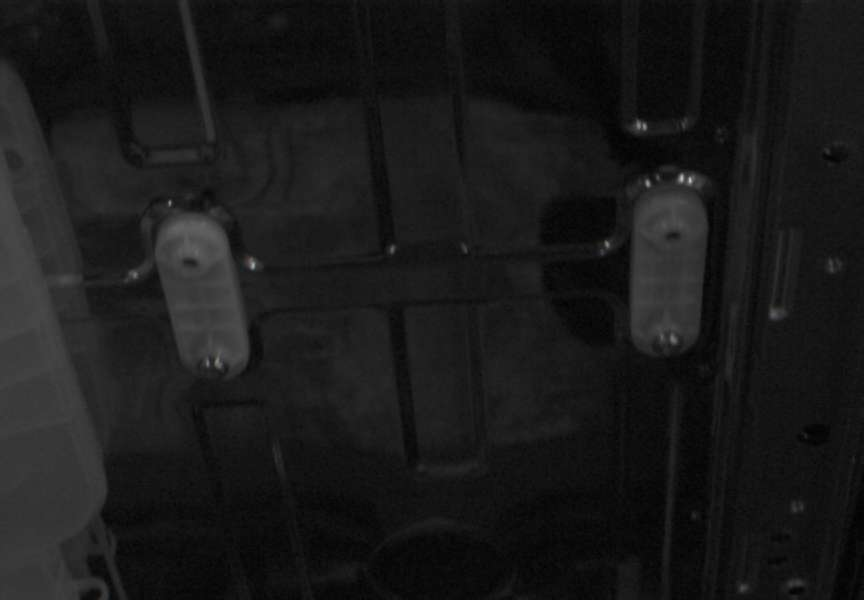missing_screw: (654, 221, 690, 255), (173, 252, 211, 280)
screw: (652, 329, 683, 357), (198, 355, 229, 379)
